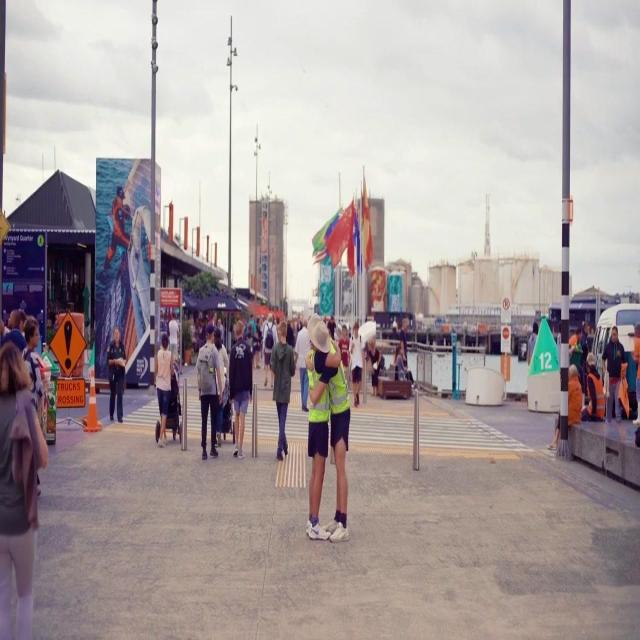Vest: (306, 348, 331, 424), (326, 342, 352, 412)
